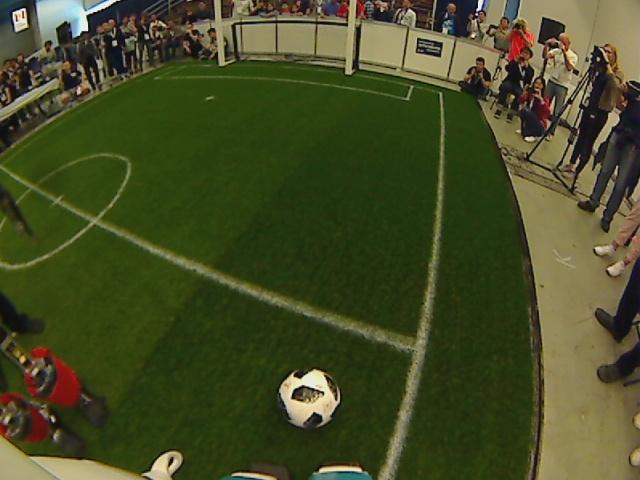ball: (272, 368, 342, 431)
goalpost: (213, 1, 357, 74)
robot: (1, 316, 106, 461)
